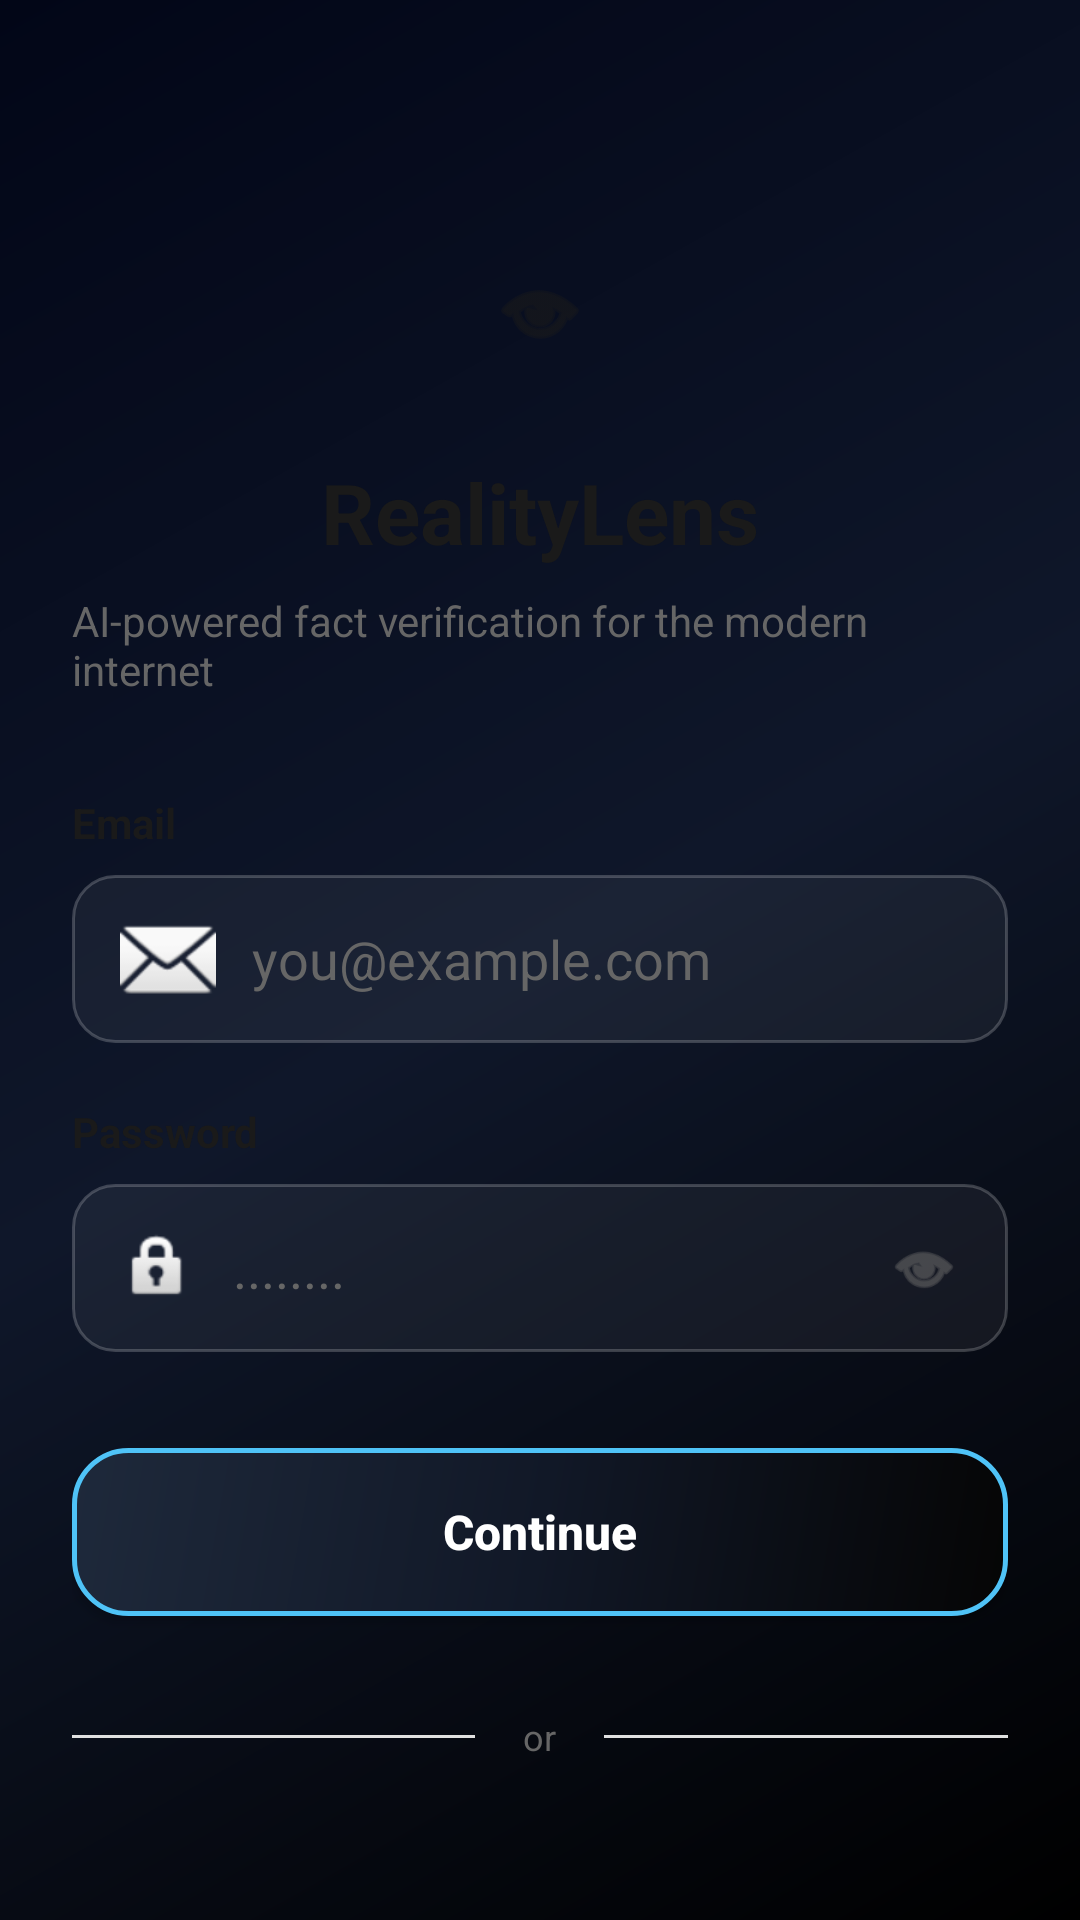

Icon bounding boxes for this 1080px x 1920px phone screenshot, format (x1, y1, x2, y2):
Toggle Password Visibility: (895, 1252, 953, 1288)
